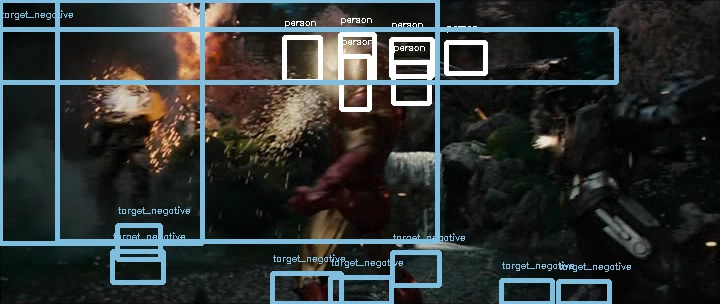person: (357, 38, 401, 93), (356, 38, 400, 93), (358, 38, 402, 93), (357, 37, 401, 92), (357, 39, 401, 94)
target_negative: (108, 31, 577, 160), (102, 148, 676, 249), (279, 167, 592, 242), (531, 12, 640, 191), (484, 126, 688, 218), (252, 236, 550, 294)
